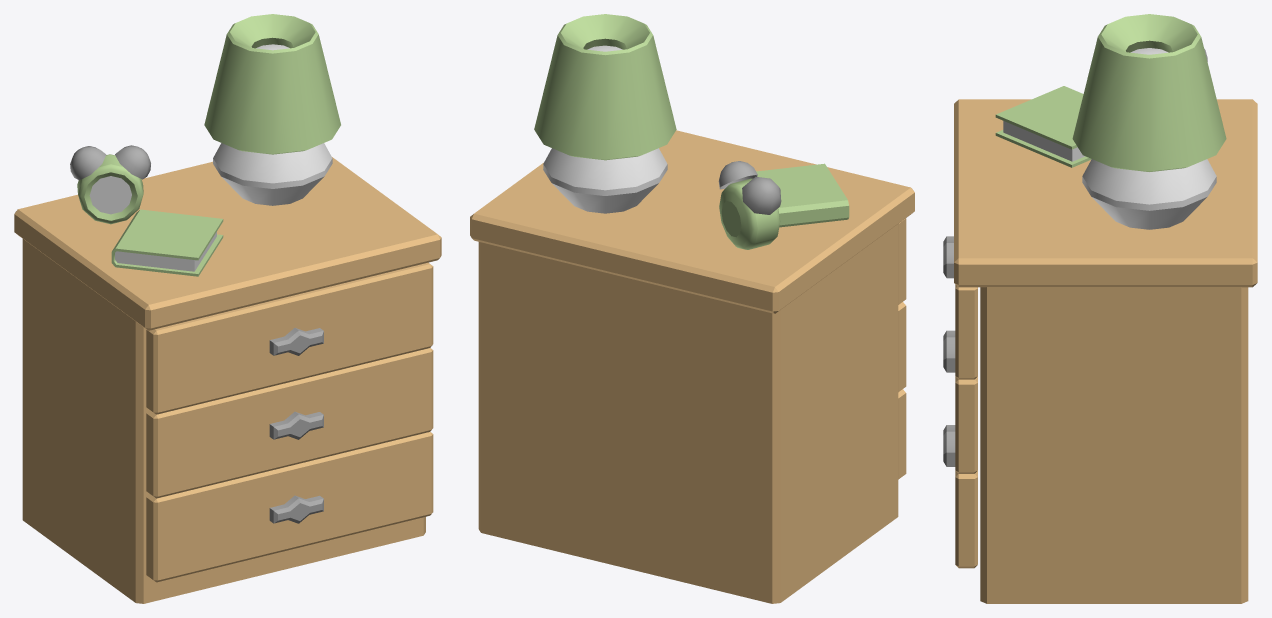
Rendered from nightstand_01.fbx.
The picture shows the model from 3 angles, left to right: view 1: azimuth 30°, elevation 25°; view 2: azimuth 150°, elevation 25°; view 3: azimuth 270°, elevation 25°; orthographic projection. The views are drawn at different scales.
Parts seen in each view (by area): view 1: pCube618, pCylinder98, polySurface99, polySurface98, pSphere5, polySurface100; view 2: pCube618, pCylinder98, polySurface99, polySurface98, pSphere5; view 3: pCube618, pCylinder98, polySurface98, polySurface99, pSphere5, polySurface100.
Part boxes in pixels (x1=…): pCube618: x1=14, y1=157, x2=441, y2=603; pCylinder98: x1=204, y1=14, x2=340, y2=154; polySurface99: x1=77, y1=154, x2=223, y2=276; polySurface98: x1=89, y1=44, x2=332, y2=214; pSphere5: x1=70, y1=145, x2=323, y2=523; polySurface100: x1=115, y1=232, x2=216, y2=271; pCube618: x1=470, y1=130, x2=914, y2=603; pCylinder98: x1=534, y1=14, x2=676, y2=160; polySurface99: x1=719, y1=163, x2=849, y2=249; polySurface98: x1=543, y1=45, x2=667, y2=213; pSphere5: x1=718, y1=161, x2=781, y2=214; pCube618: x1=954, y1=99, x2=1257, y2=603; pCylinder98: x1=1072, y1=14, x2=1226, y2=171; polySurface98: x1=1082, y1=48, x2=1216, y2=229; polySurface99: x1=995, y1=86, x2=1091, y2=167; pSphere5: x1=943, y1=49, x2=1207, y2=466; polySurface100: x1=1003, y1=121, x2=1084, y2=161.
Bounding box in the file's own units: 5.2 × 7.82 × 4.24.
